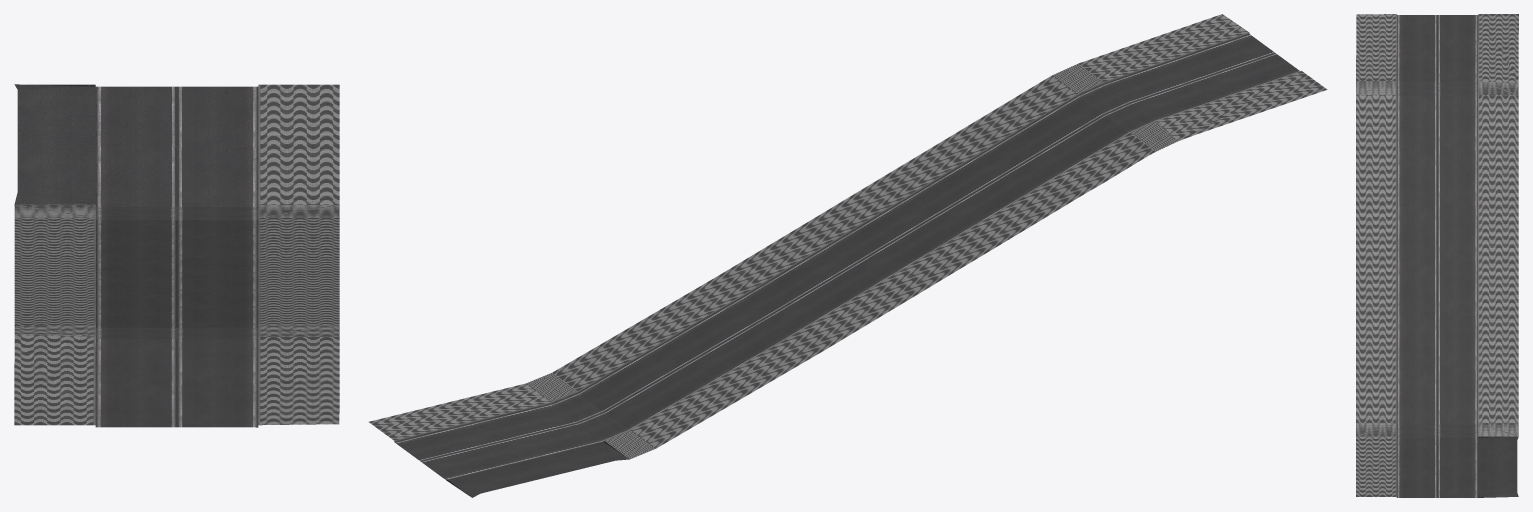
The model's file is road_sfw22.obj.
The picture shows the model from 3 angles, left to right: view 1: azimuth 90°, elevation 25°; view 2: azimuth 210°, elevation 25°; view 3: azimuth 270°, elevation 25°; orthographic projection. The views are drawn at different scales.
Parts seen in each view (by area): view 1: road_SFW22; view 2: road_SFW22; view 3: road_SFW22.
Boxes of the visible parts, <box> form: road_SFW22: <box>14,84,339,427</box>; road_SFW22: <box>369,14,1327,497</box>; road_SFW22: <box>1356,14,1518,497</box>.
Bounding box in the file's own units: 95.04 × 21.35 × 20.02.
Materials: 2 (2 with a texture image).
